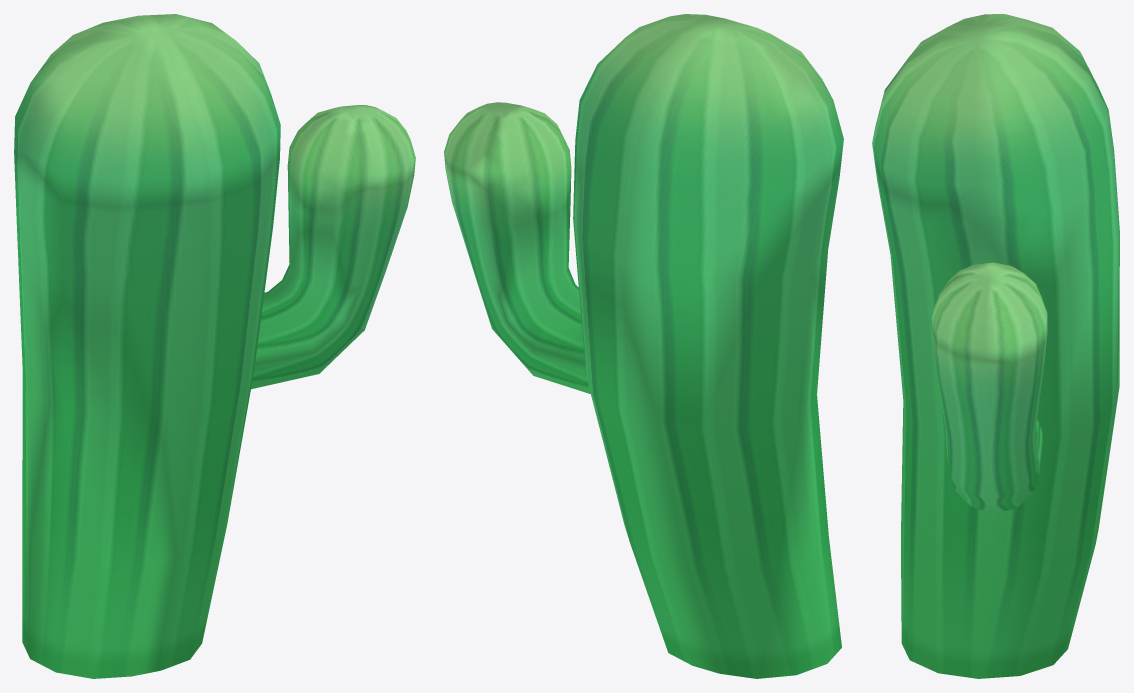
Rendered from cactus3.glb.
3 views of the same model, side by side, from view 1: azimuth 30°, elevation 25°; view 2: azimuth 150°, elevation 25°; view 3: azimuth 270°, elevation 25° (orthographic). The views are drawn at different scales.
Parts seen in each view (by area): view 1: Mesh_27_cactus_0; view 2: Mesh_27_cactus_0; view 3: Mesh_27_cactus_0.
Boxes of the visible parts, x1,y1,x2,y2 form: Mesh_27_cactus_0: (14,14,415,678); Mesh_27_cactus_0: (444,14,843,678); Mesh_27_cactus_0: (872,14,1119,678).
Bounding box in the file's own units: 2.31 × 3.51 × 1.26.
1 material, 1 textured.
